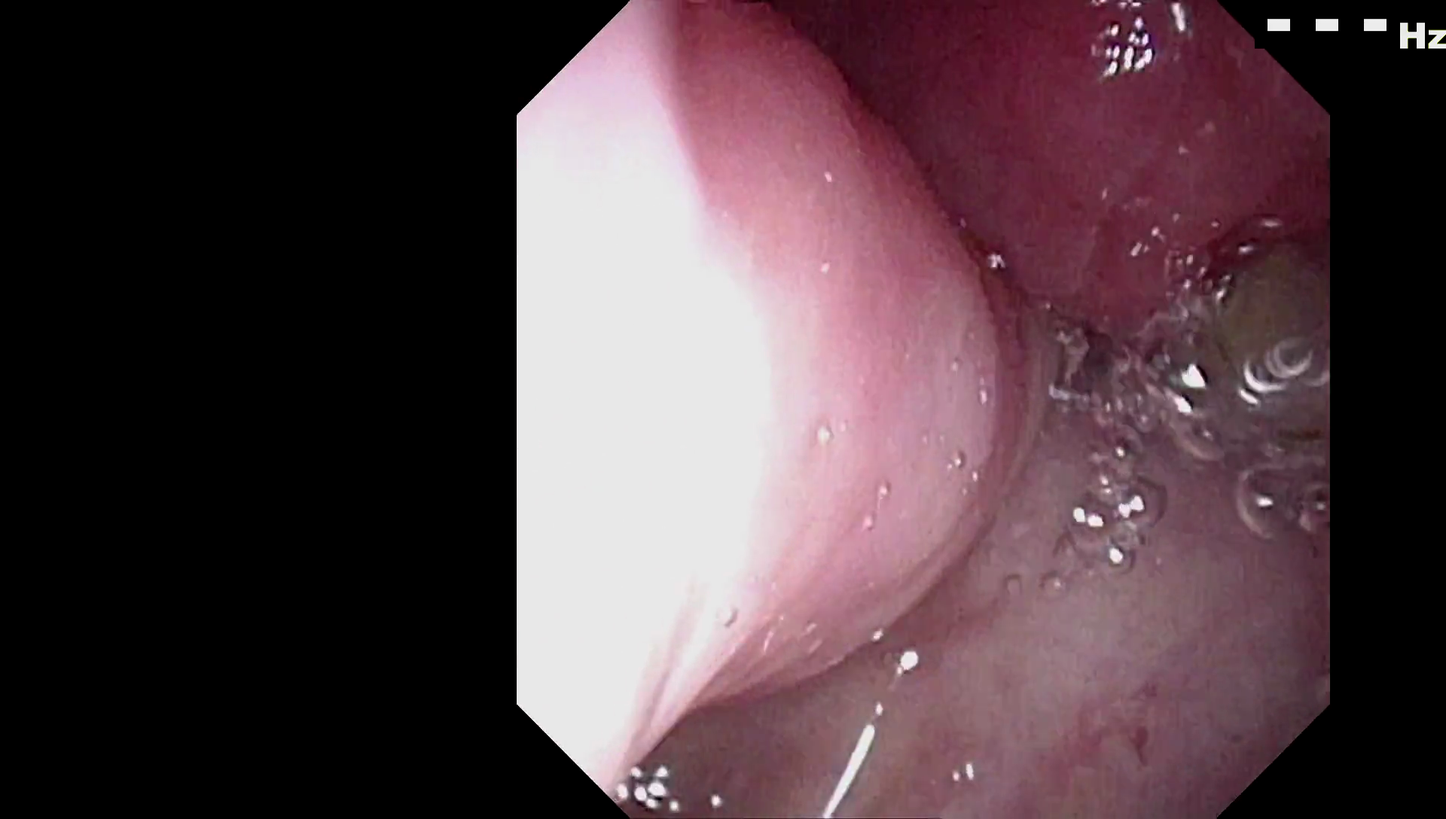close_wall: (518, 126, 834, 696)
